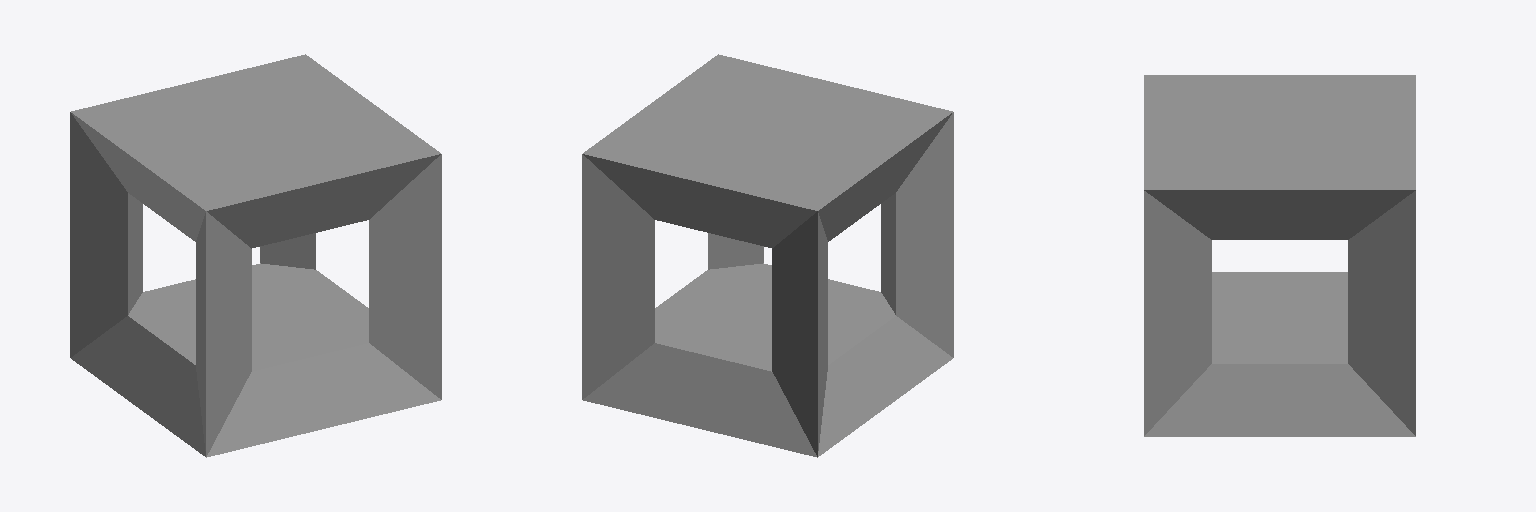
Rendered from fluidTank1_noSphere.obj.
3 views of the same model, side by side, from view 1: azimuth 30°, elevation 25°; view 2: azimuth 150°, elevation 25°; view 3: azimuth 270°, elevation 25° (orthographic).
Visible parts, largest first — view 1: Cube.001_Cube.000; view 2: Cube.001_Cube.000; view 3: Cube.001_Cube.000.
Boxes of the visible parts, x1,y1,x2,y2 form: Cube.001_Cube.000: [70, 54, 441, 457]; Cube.001_Cube.000: [582, 54, 953, 457]; Cube.001_Cube.000: [1144, 75, 1415, 436].
Size of the model in its own units: 1 by 1 by 1.